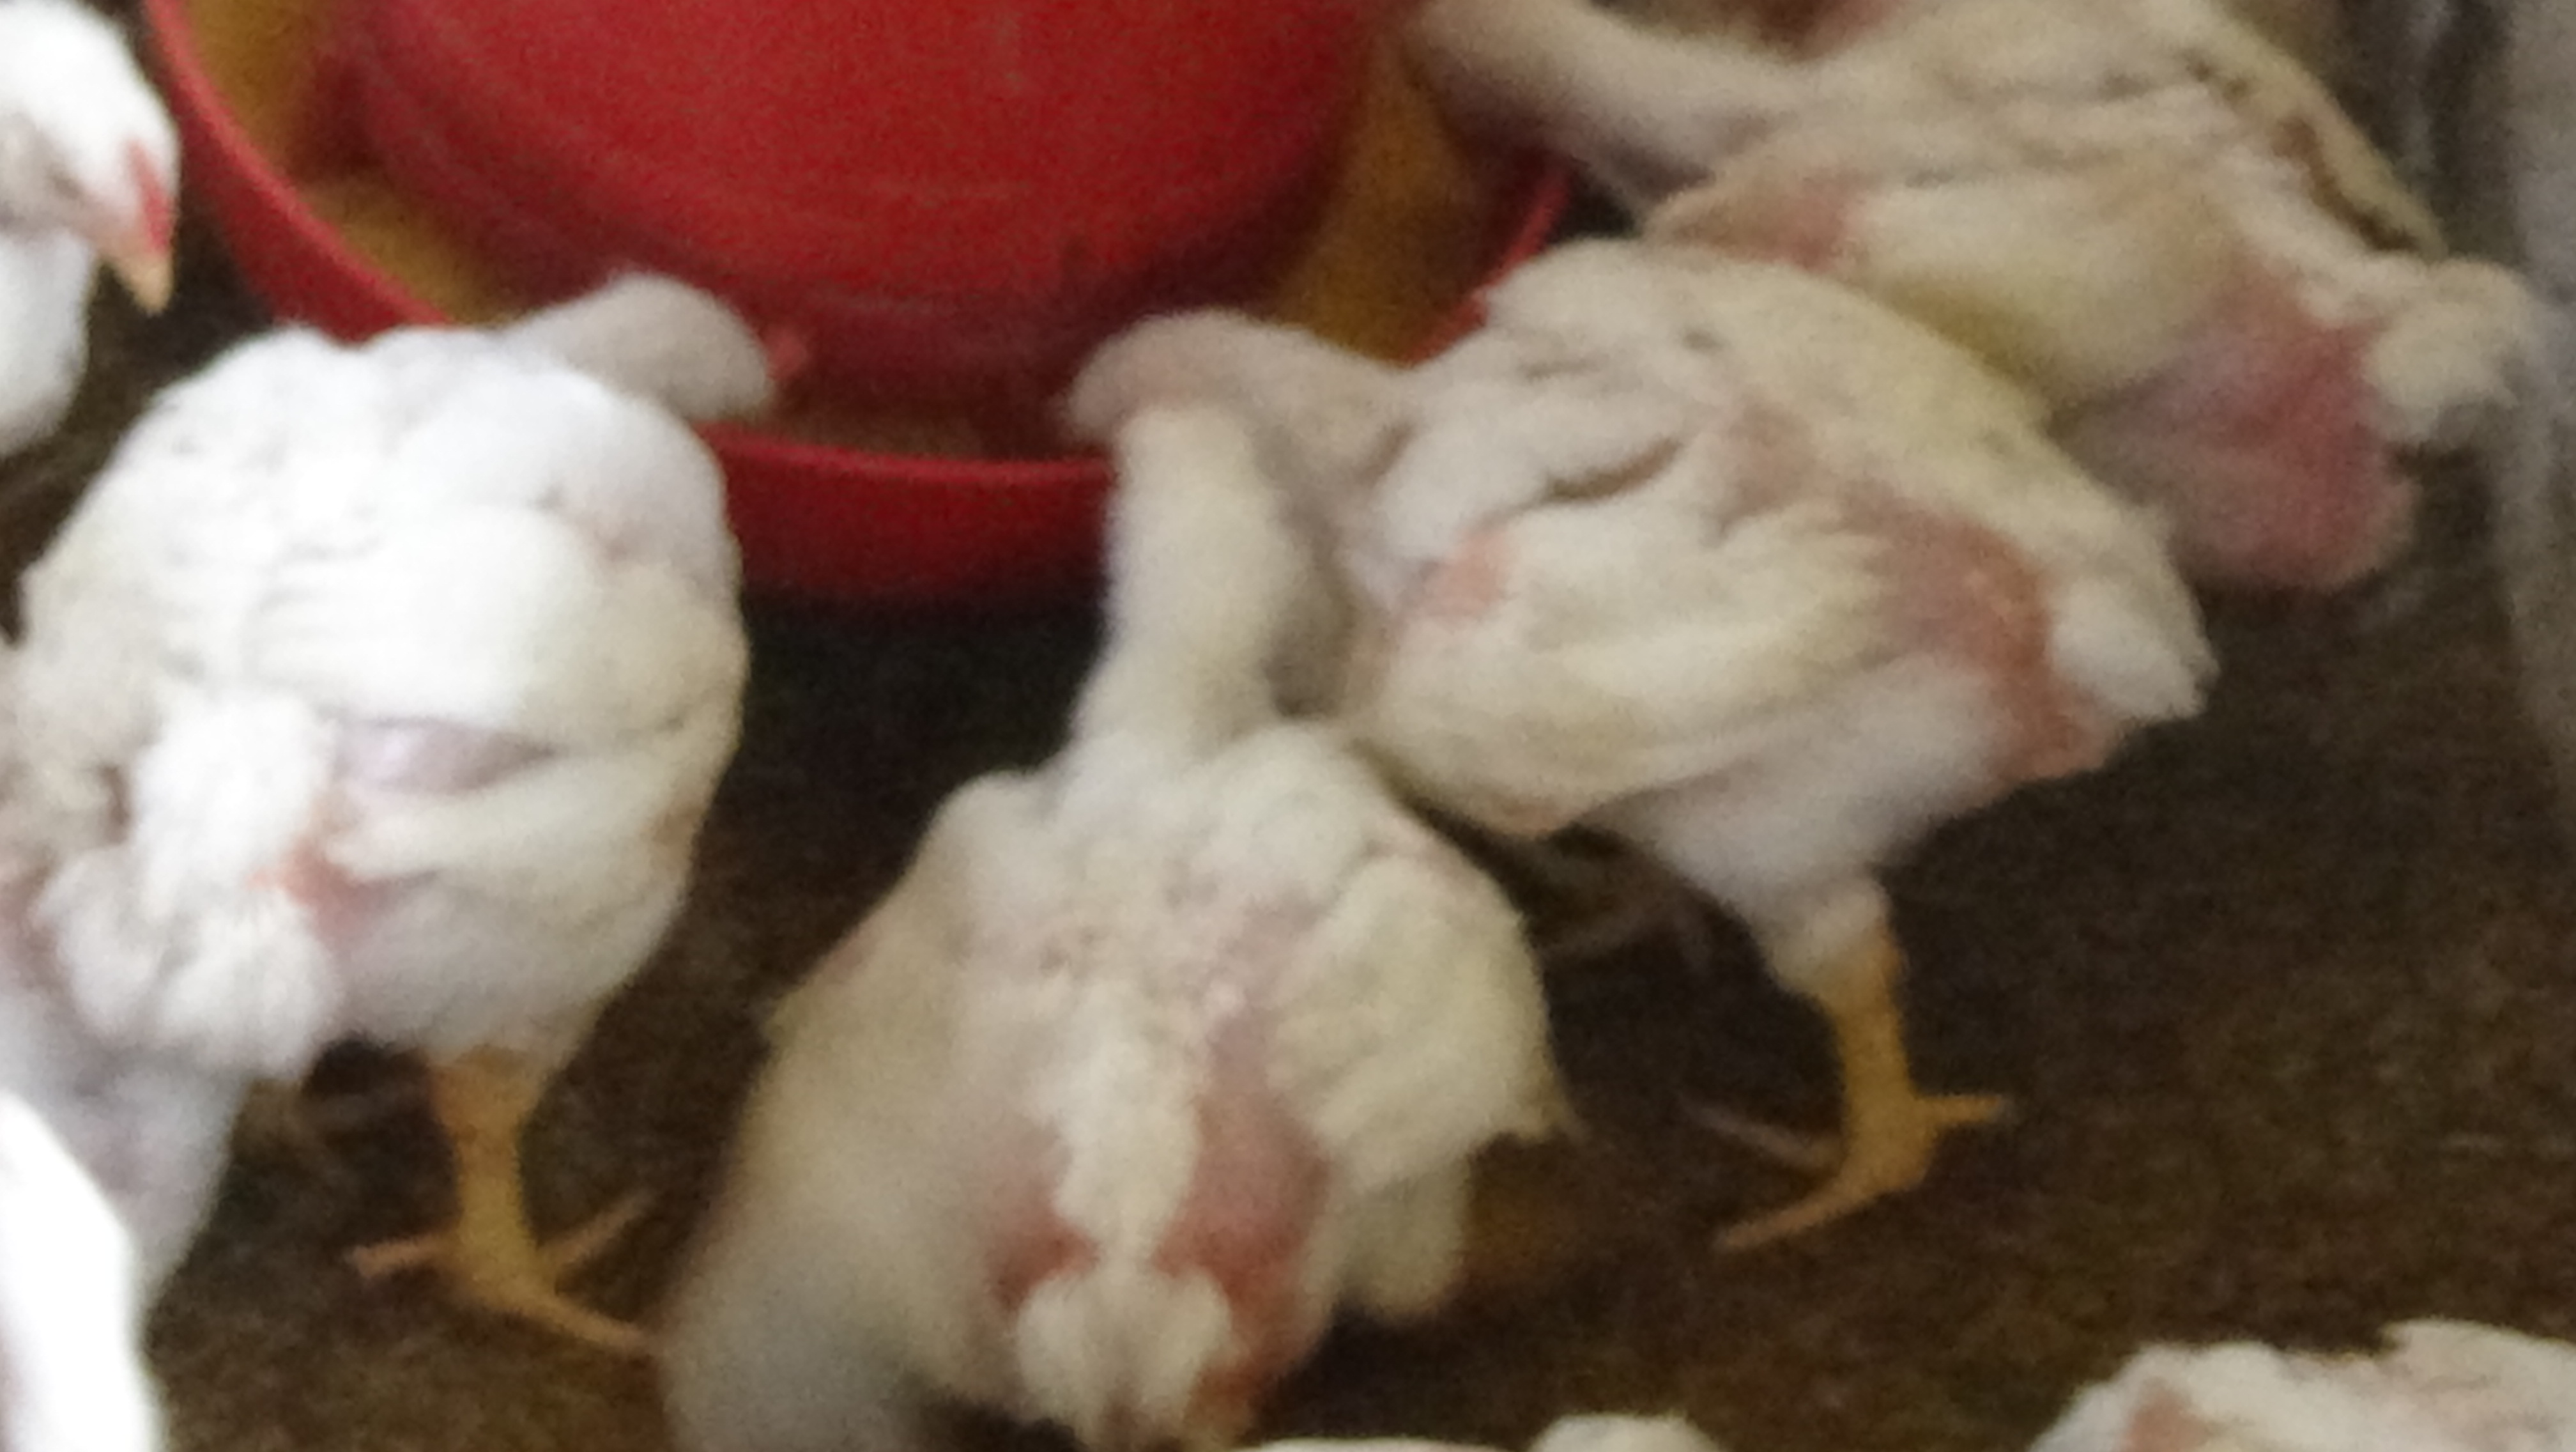Pollos: (1058, 237, 2212, 1236), (0, 239, 821, 1316), (1338, 2, 2567, 616), (833, 388, 1541, 1406), (0, 0, 267, 467), (1444, 1294, 1447, 1298)
